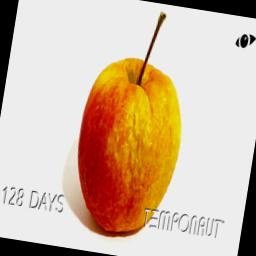Apple Overripe: (66, 4, 200, 245)
